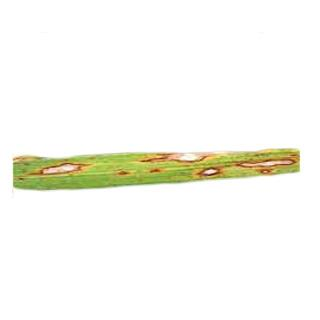Blast: (11, 151, 90, 190), (230, 159, 306, 184), (112, 167, 244, 180), (141, 152, 222, 168)
